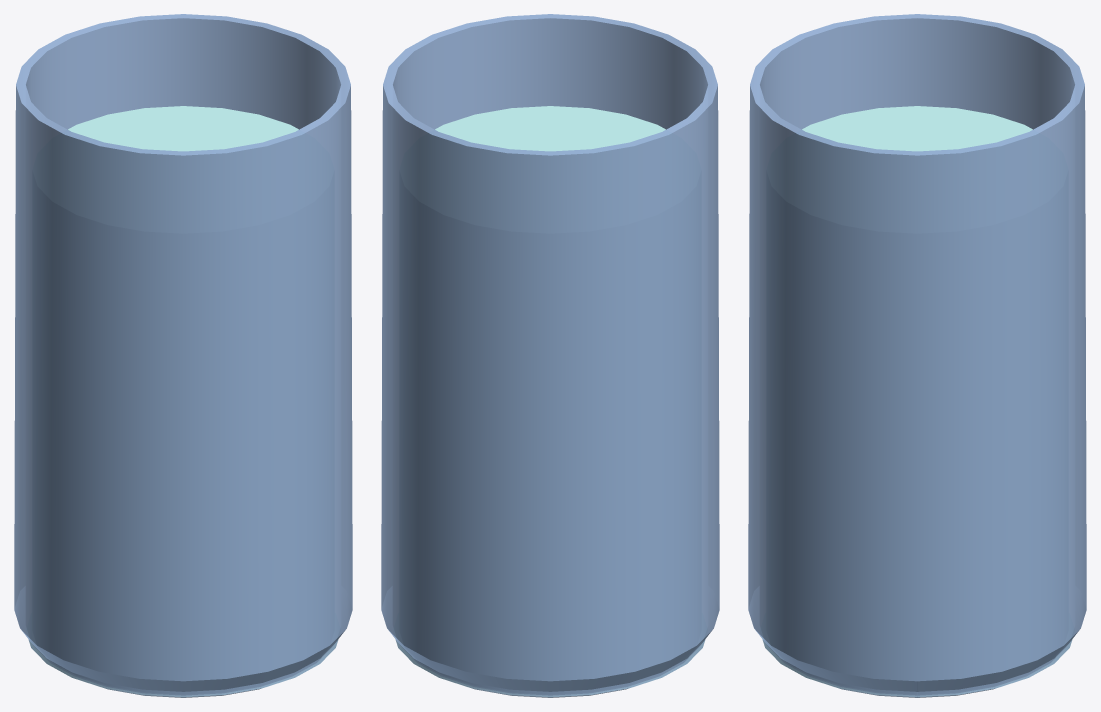
3 views of the same model, side by side, from view 1: azimuth 30°, elevation 25°; view 2: azimuth 150°, elevation 25°; view 3: azimuth 270°, elevation 25° (orthographic).
Parts seen in each view (by area): view 1: mesh1_mesh1-geometry, mesh1_mesh1-geometry_3; view 2: mesh1_mesh1-geometry, mesh1_mesh1-geometry_3; view 3: mesh1_mesh1-geometry, mesh1_mesh1-geometry_3.
Part boxes in pixels (<box>): mesh1_mesh1-geometry: <box>14,14,352,697</box>; mesh1_mesh1-geometry_3: <box>29,106,337,696</box>; mesh1_mesh1-geometry: <box>381,14,719,697</box>; mesh1_mesh1-geometry_3: <box>396,106,704,696</box>; mesh1_mesh1-geometry: <box>748,14,1086,697</box>; mesh1_mesh1-geometry_3: <box>763,106,1071,696</box>.
Size of the model in its own units: 0.4383 by 0.7847 by 0.4383.
